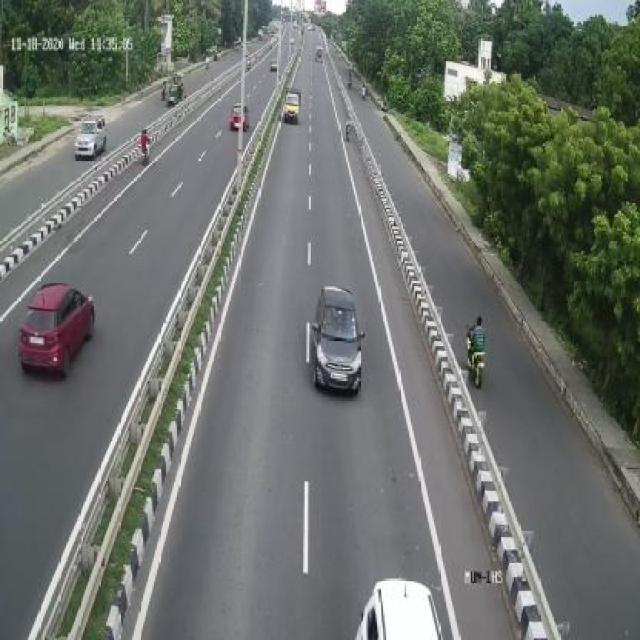car: (18, 278, 92, 374), (309, 281, 365, 394), (360, 574, 449, 640), (74, 111, 109, 157), (277, 83, 305, 129), (228, 98, 257, 136)
